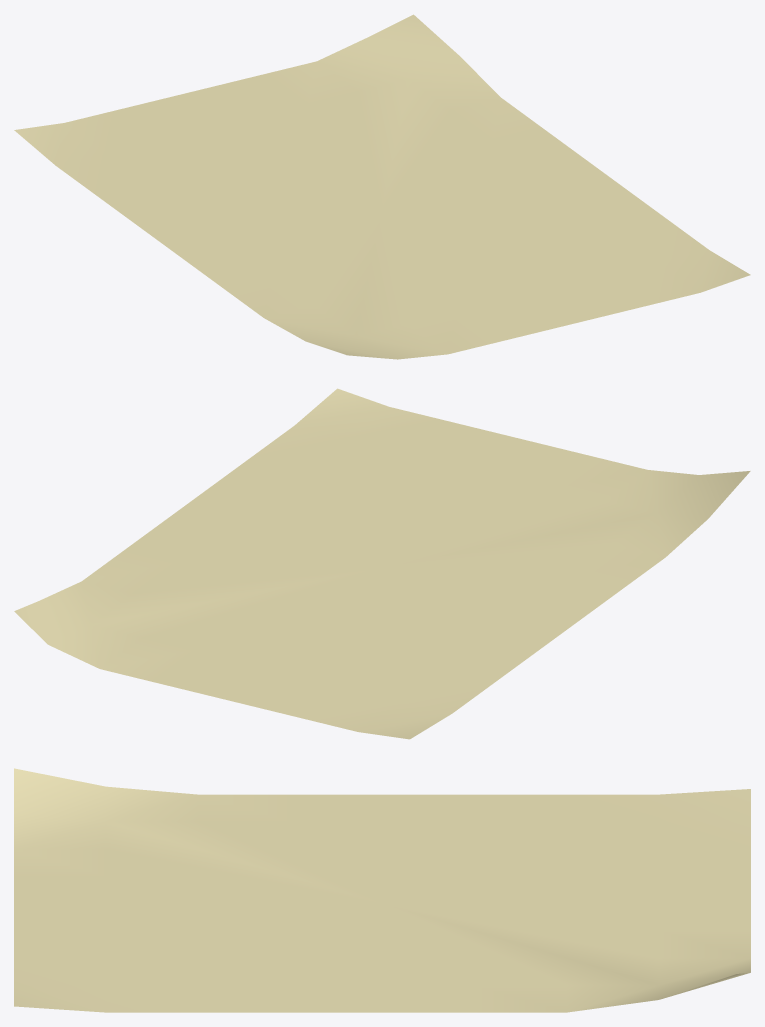
The model's file is paper.fbx.
3 renders of one model, top to bottom at view 1: azimuth 30°, elevation 25°; view 2: azimuth 150°, elevation 25°; view 3: azimuth 270°, elevation 25°, orthographic. The views are drawn at different scales.
Parts seen in each view (by area): view 1: Paper; view 2: Paper; view 3: Paper.
Boxes of the visible parts, bbox=[...] form: Paper: bbox=[14, 14, 750, 359]; Paper: bbox=[14, 388, 750, 739]; Paper: bbox=[14, 768, 750, 1012].
Size of the model in its own units: 140 by 9.81 by 200.
